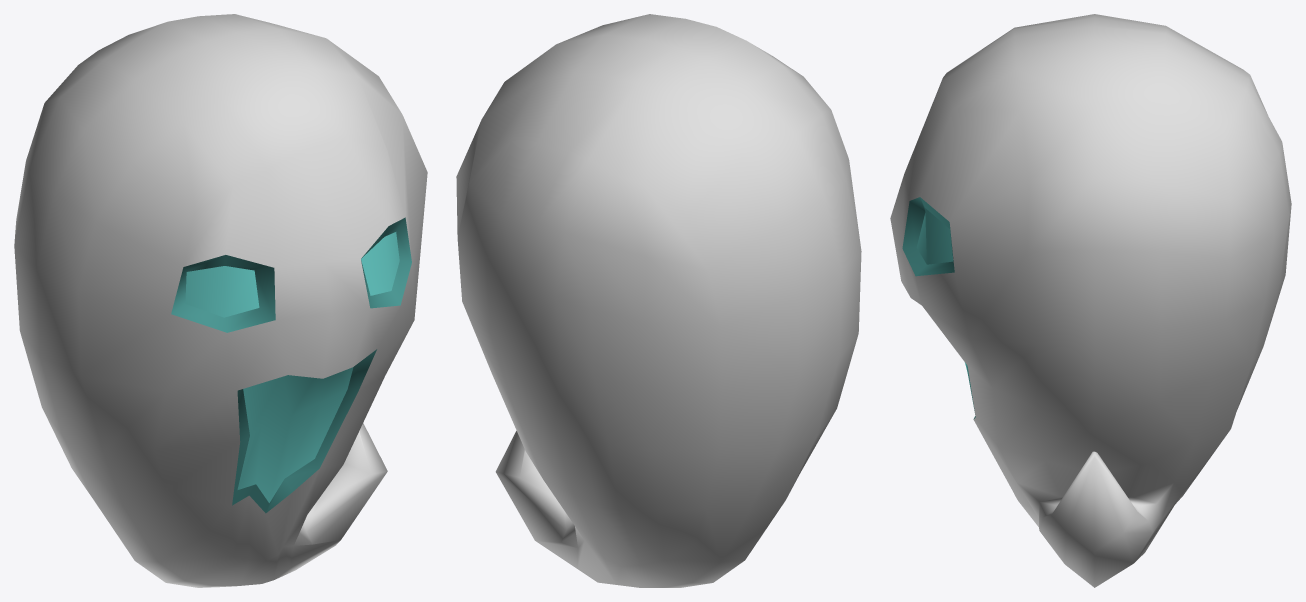
File: Ghost.fbx
3 renders of one model, left to right at view 1: azimuth 30°, elevation 25°; view 2: azimuth 150°, elevation 25°; view 3: azimuth 270°, elevation 25°, orthographic. The views are drawn at different scales.
Visible parts, largest first — view 1: Ghost1; view 2: Ghost1; view 3: Ghost1.
Boxes of the visible parts, x1,y1,x2,y2 form: Ghost1: [14, 14, 427, 587]; Ghost1: [456, 14, 861, 587]; Ghost1: [890, 14, 1291, 587].
Size of the model in its own units: 0.6792 by 0.9788 by 0.6852.
